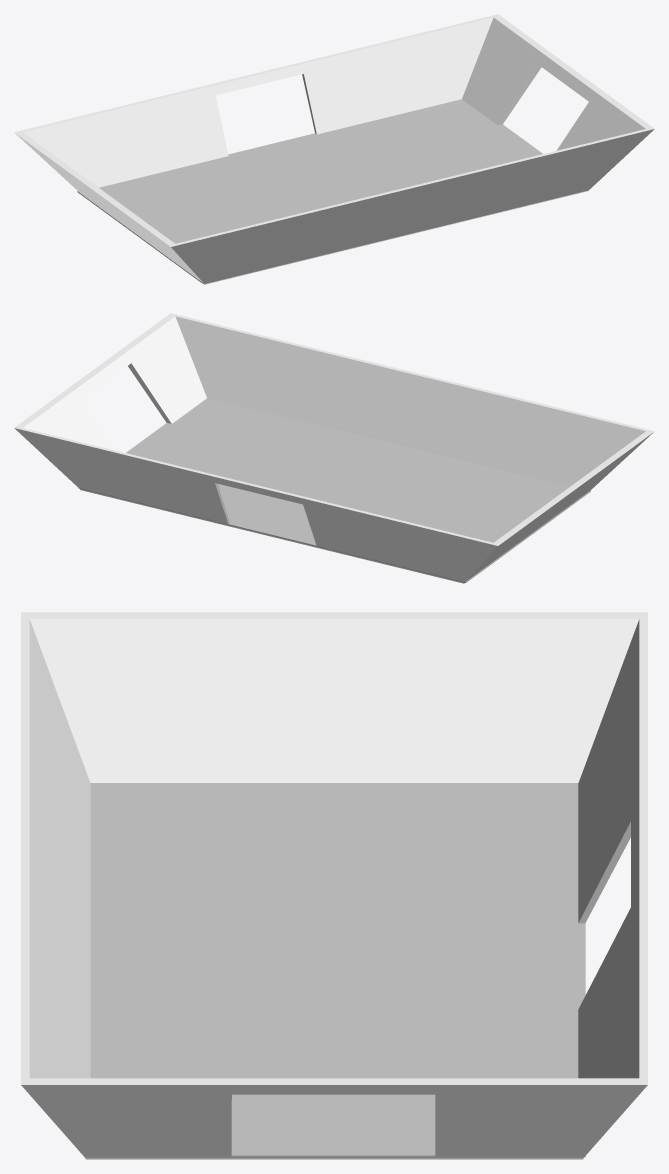
The model's file is BottomLeft.fbx.
3 views of the same model, one above another, from view 1: azimuth 30°, elevation 25°; view 2: azimuth 150°, elevation 25°; view 3: azimuth 270°, elevation 25° (orthographic). The views are drawn at different scales.
Parts seen in each view (by area): view 1: Room6, Piso1; view 2: Room6, Piso1; view 3: Room6, Piso1.
Part boxes in pixels (left/top/right/bottom): Room6: left=14, top=14, right=654, bottom=284; Piso1: left=77, top=99, right=542, bottom=283; Room6: left=14, top=313, right=654, bottom=583; Piso1: left=78, top=398, right=590, bottom=582; Room6: left=21, top=612, right=647, bottom=1159; Piso1: left=86, top=783, right=585, bottom=1157.
Size of the model in its own units: 4100 by 500 by 2300.
